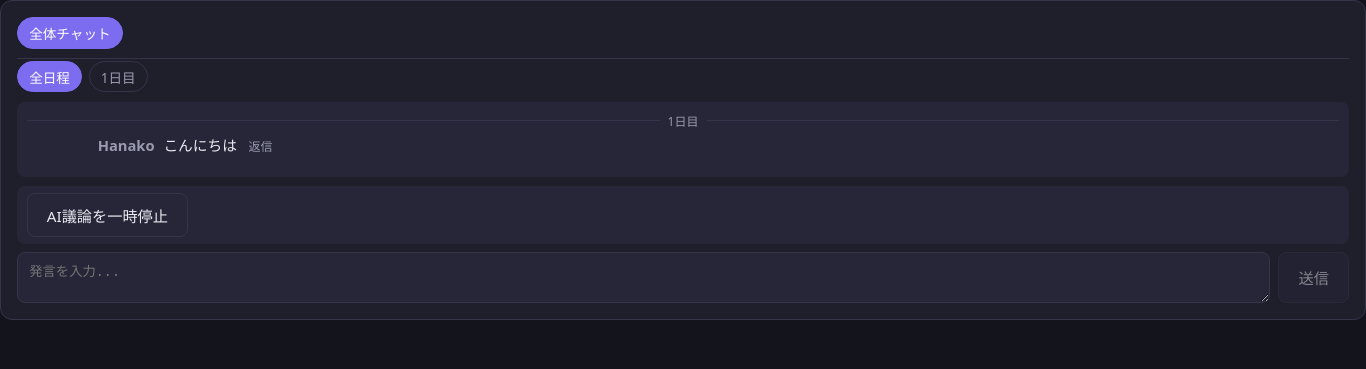
Test case: ChatPanel › shows a reply preview and uses message ids as reply targets
Click the button with aria-label "m1に返信" at (261, 146), box [243,136,279,156]
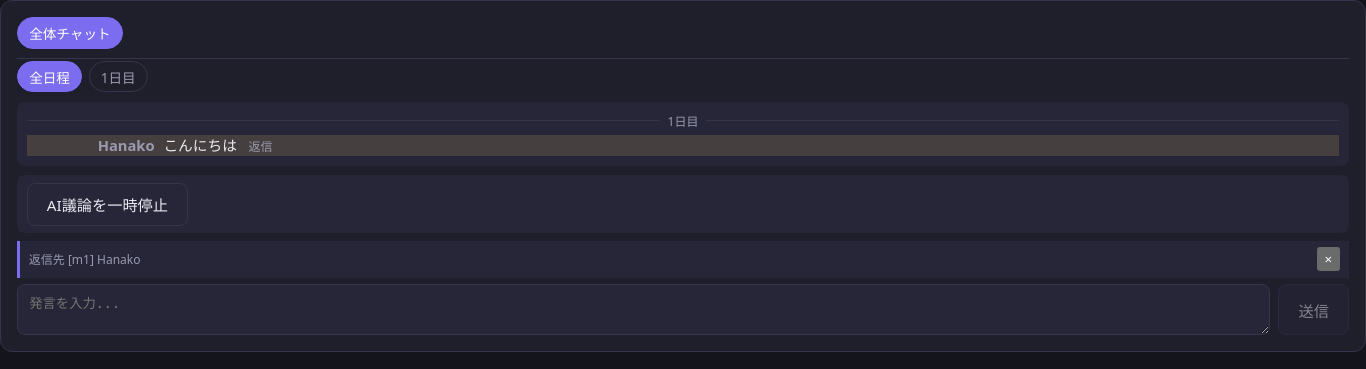
Result: the text "返信先 [m1] Hanako" is shown at [29,250,140,268]
